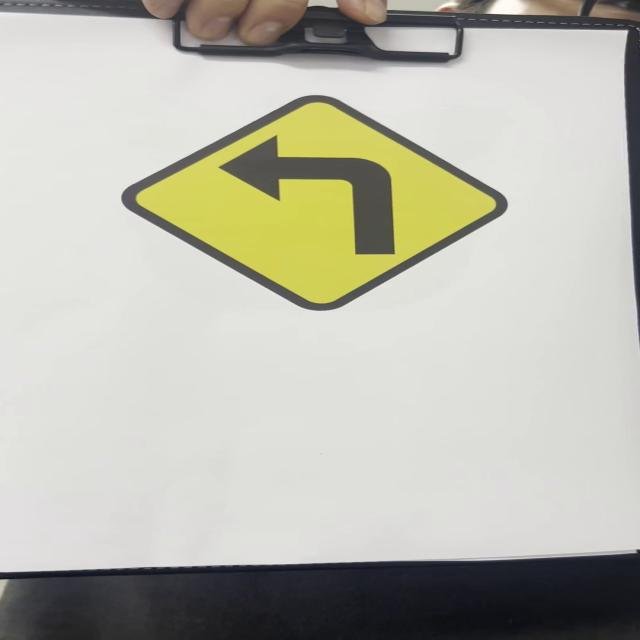left: (126, 95, 507, 314)
